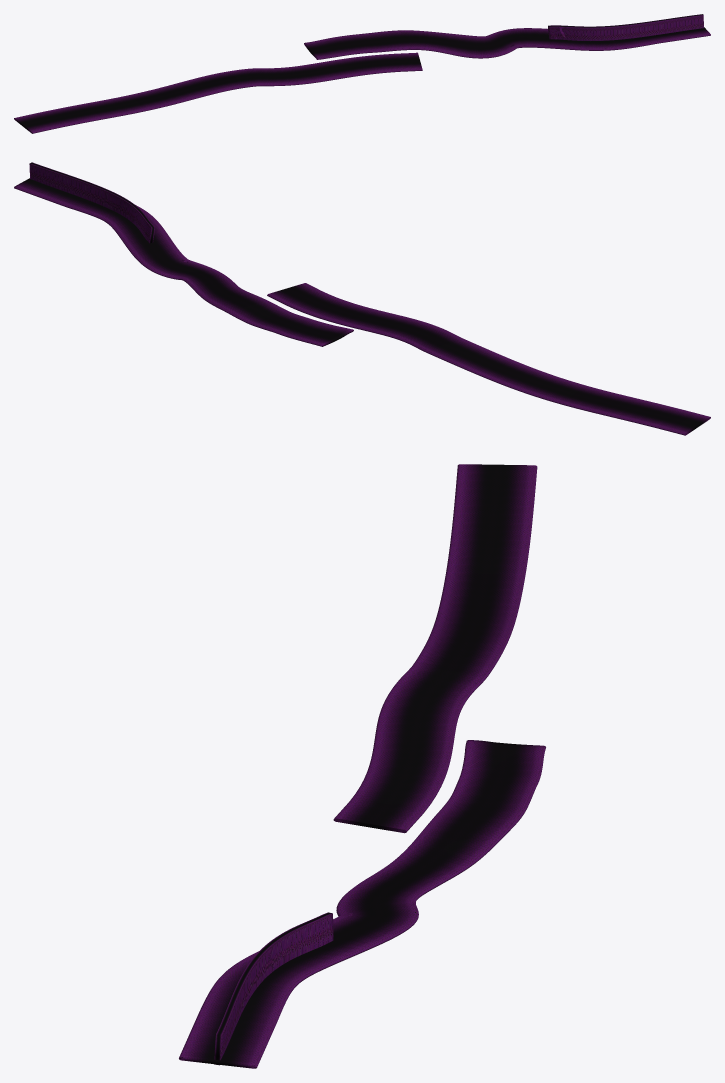
The model's file is level-03-track-02.glb.
3 renders of one model, top to bottom at view 1: azimuth 30°, elevation 25°; view 2: azimuth 150°, elevation 25°; view 3: azimuth 270°, elevation 25°, orthographic. The views are drawn at different scales.
Parts seen in each view (by area): view 1: track-02.002; view 2: track-02.002; view 3: track-02.002.
Boxes of the visible parts, <box> form: track-02.002: <box>14,14,710,133</box>; track-02.002: <box>14,162,710,435</box>; track-02.002: <box>179,464,545,1068</box>.
Size of the model in its own units: 149 by 5.19 by 38.5.
6 materials, 6 textured.
